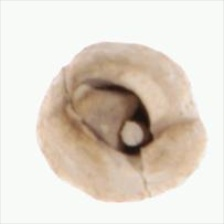L3: (72, 78, 154, 159)
L4: (36, 43, 208, 202)
